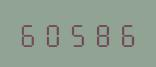eight: (90, 20, 113, 47)
five: (66, 20, 89, 47)
six: (18, 20, 41, 47), (114, 20, 137, 47)
zero: (42, 20, 65, 47)
